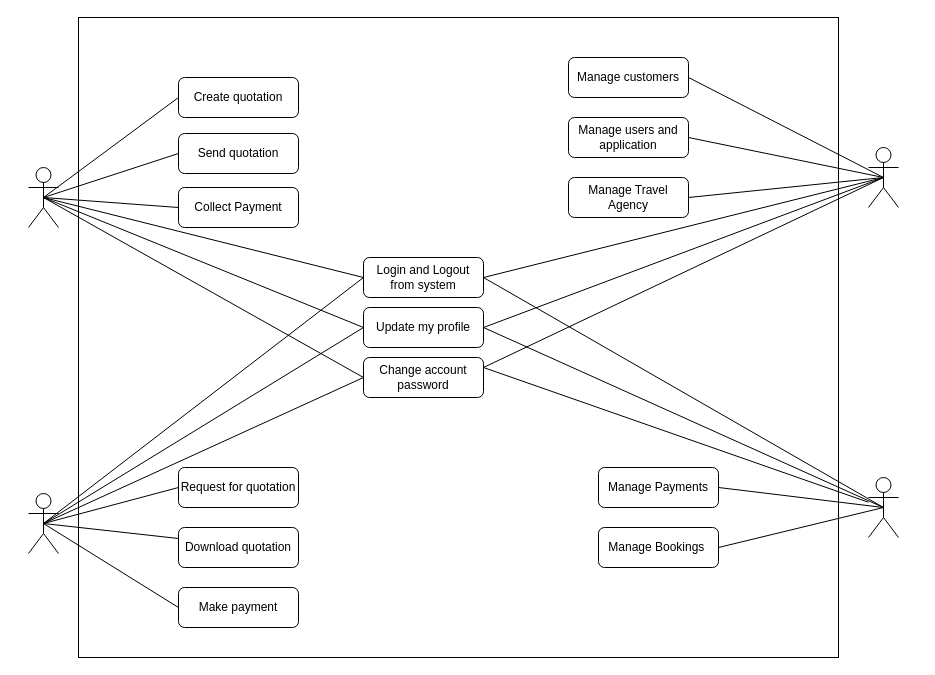
The diagram is 935 pixels wide and 675 high, and some of its shapes have lost their labels. Each missing label, with the centre of its shape:
"Admin" belongs at (x=883, y=177).
"Agent" belongs at (x=43, y=197).
"Customer" belongs at (x=43, y=523).
"System User" belongs at (x=883, y=507).
